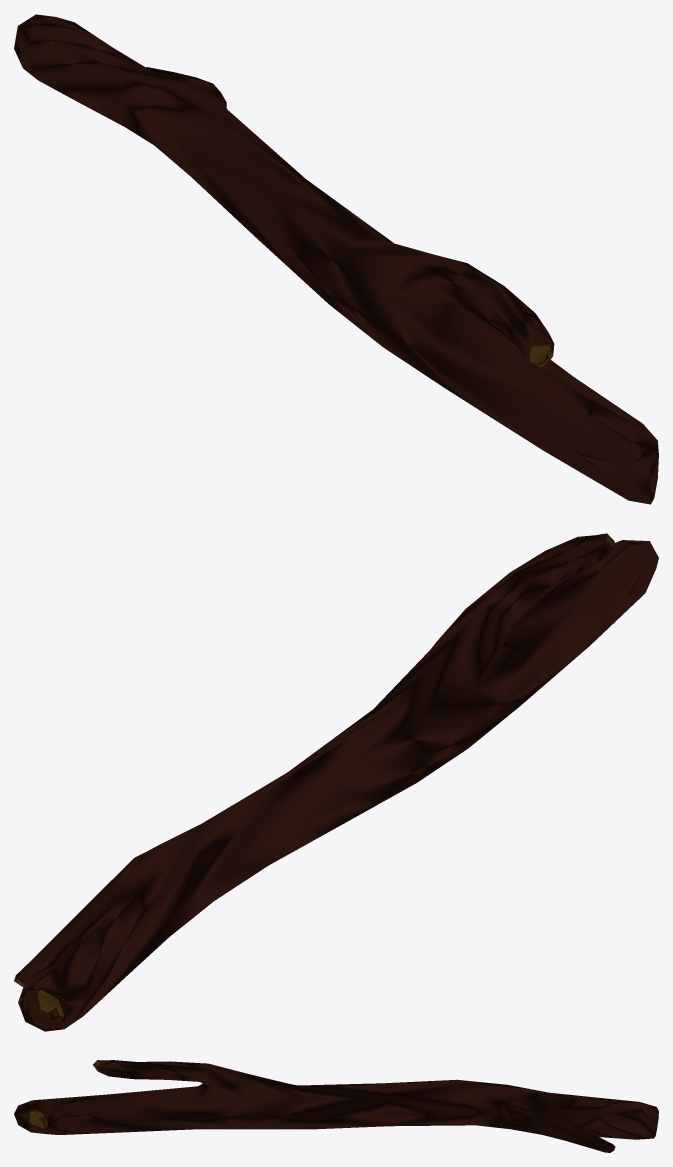
File: Log_1.obj
3 views of the same model, one above another, from view 1: azimuth 30°, elevation 25°; view 2: azimuth 150°, elevation 25°; view 3: azimuth 270°, elevation 25° (orthographic). The views are drawn at different scales.
Parts seen in each view (by area): view 1: Log_1; view 2: Log_1; view 3: Log_1.
Part boxes in pixels (left/top/right/bottom): Log_1: left=14, top=14, right=658, bottom=504; Log_1: left=14, top=533, right=658, bottom=1031; Log_1: left=14, top=1060, right=658, bottom=1152.
Size of the model in its own units: 53.01 by 54.76 by 459.
